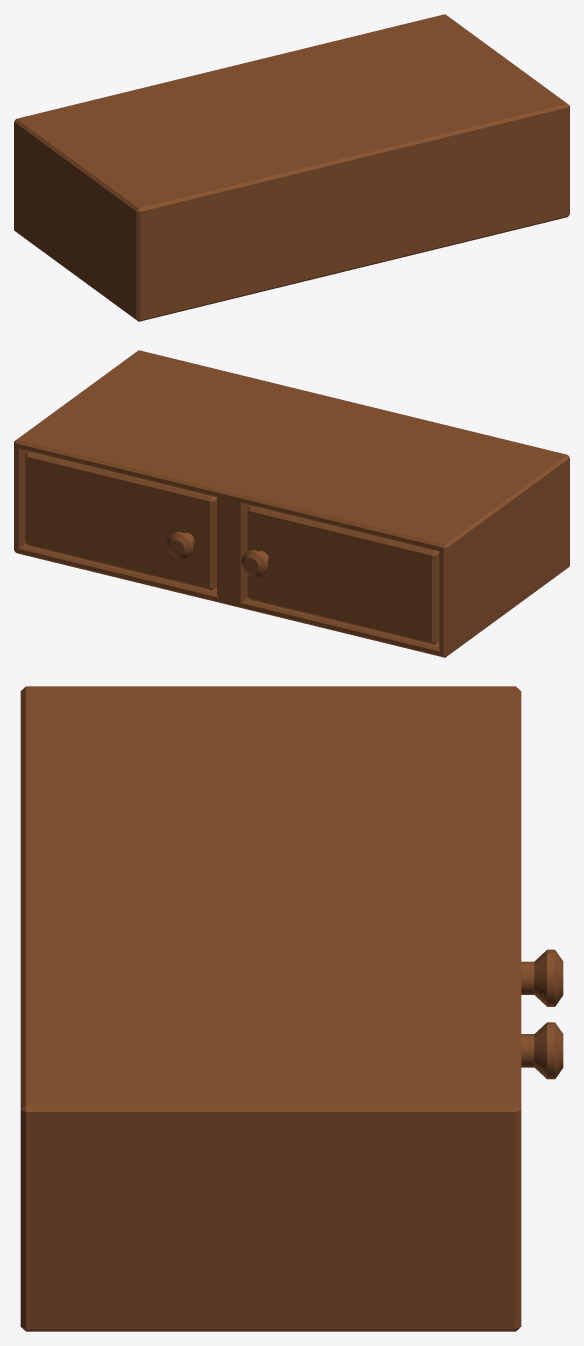
File: Props_Bookshelf_02.fbx
3 views of the same model, one above another, from view 1: azimuth 30°, elevation 25°; view 2: azimuth 150°, elevation 25°; view 3: azimuth 270°, elevation 25° (orthographic). The views are drawn at different scales.
Parts seen in each view (by area): view 1: Props_Bookshelf_02; view 2: Props_Bookshelf_02; view 3: Props_Bookshelf_02.
Boxes of the visible parts, x1,y1,x2,y2 form: Props_Bookshelf_02: (14, 14, 569, 321); Props_Bookshelf_02: (14, 350, 569, 657); Props_Bookshelf_02: (20, 686, 563, 1331).
Bounding box in the file's own units: 200 × 50 × 108.
